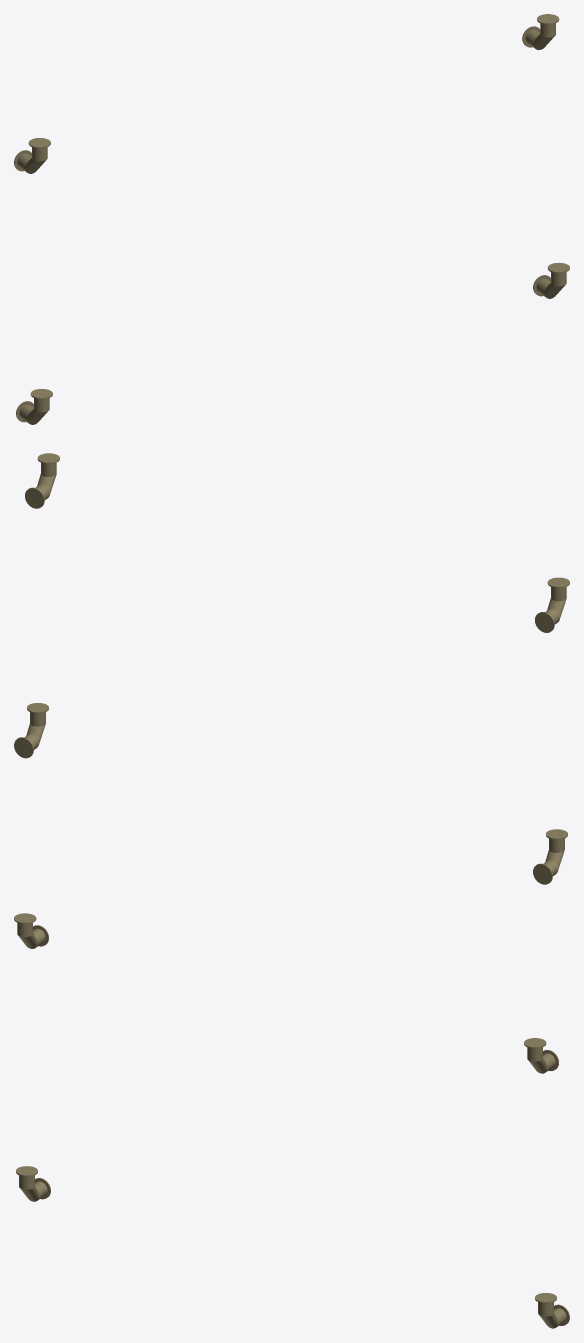
File: shelf-support.glb
3 renders of one model, top to bottom at view 1: azimuth 30°, elevation 25°; view 2: azimuth 150°, elevation 25°; view 3: azimuth 330°, elevation 25°, orthographic.
Visible parts, largest first — view 1: shelfHolder, shelfHolder.002, shelfHolder.001, shelfHolder.003; view 2: shelfHolder, shelfHolder.002, shelfHolder.003, shelfHolder.001; view 3: shelfHolder.001, shelfHolder, shelfHolder.003, shelfHolder.002.
Part boxes in pixels (x1,y1,x2,y2): shelfHolder: [522, 14, 559, 49]; shelfHolder.002: [16, 389, 52, 424]; shelfHolder.001: [14, 138, 50, 173]; shelfHolder.003: [533, 262, 569, 298]; shelfHolder: [25, 453, 59, 508]; shelfHolder.002: [533, 829, 567, 884]; shelfHolder.003: [14, 703, 48, 758]; shelfHolder.001: [535, 577, 569, 632]; shelfHolder.001: [14, 913, 48, 948]; shelfHolder: [524, 1038, 558, 1073]; shelfHolder.003: [535, 1293, 569, 1328]; shelfHolder.002: [16, 1166, 50, 1201].
Size of the model in its own units: 0.7256 by 0.3736 by 0.049.
